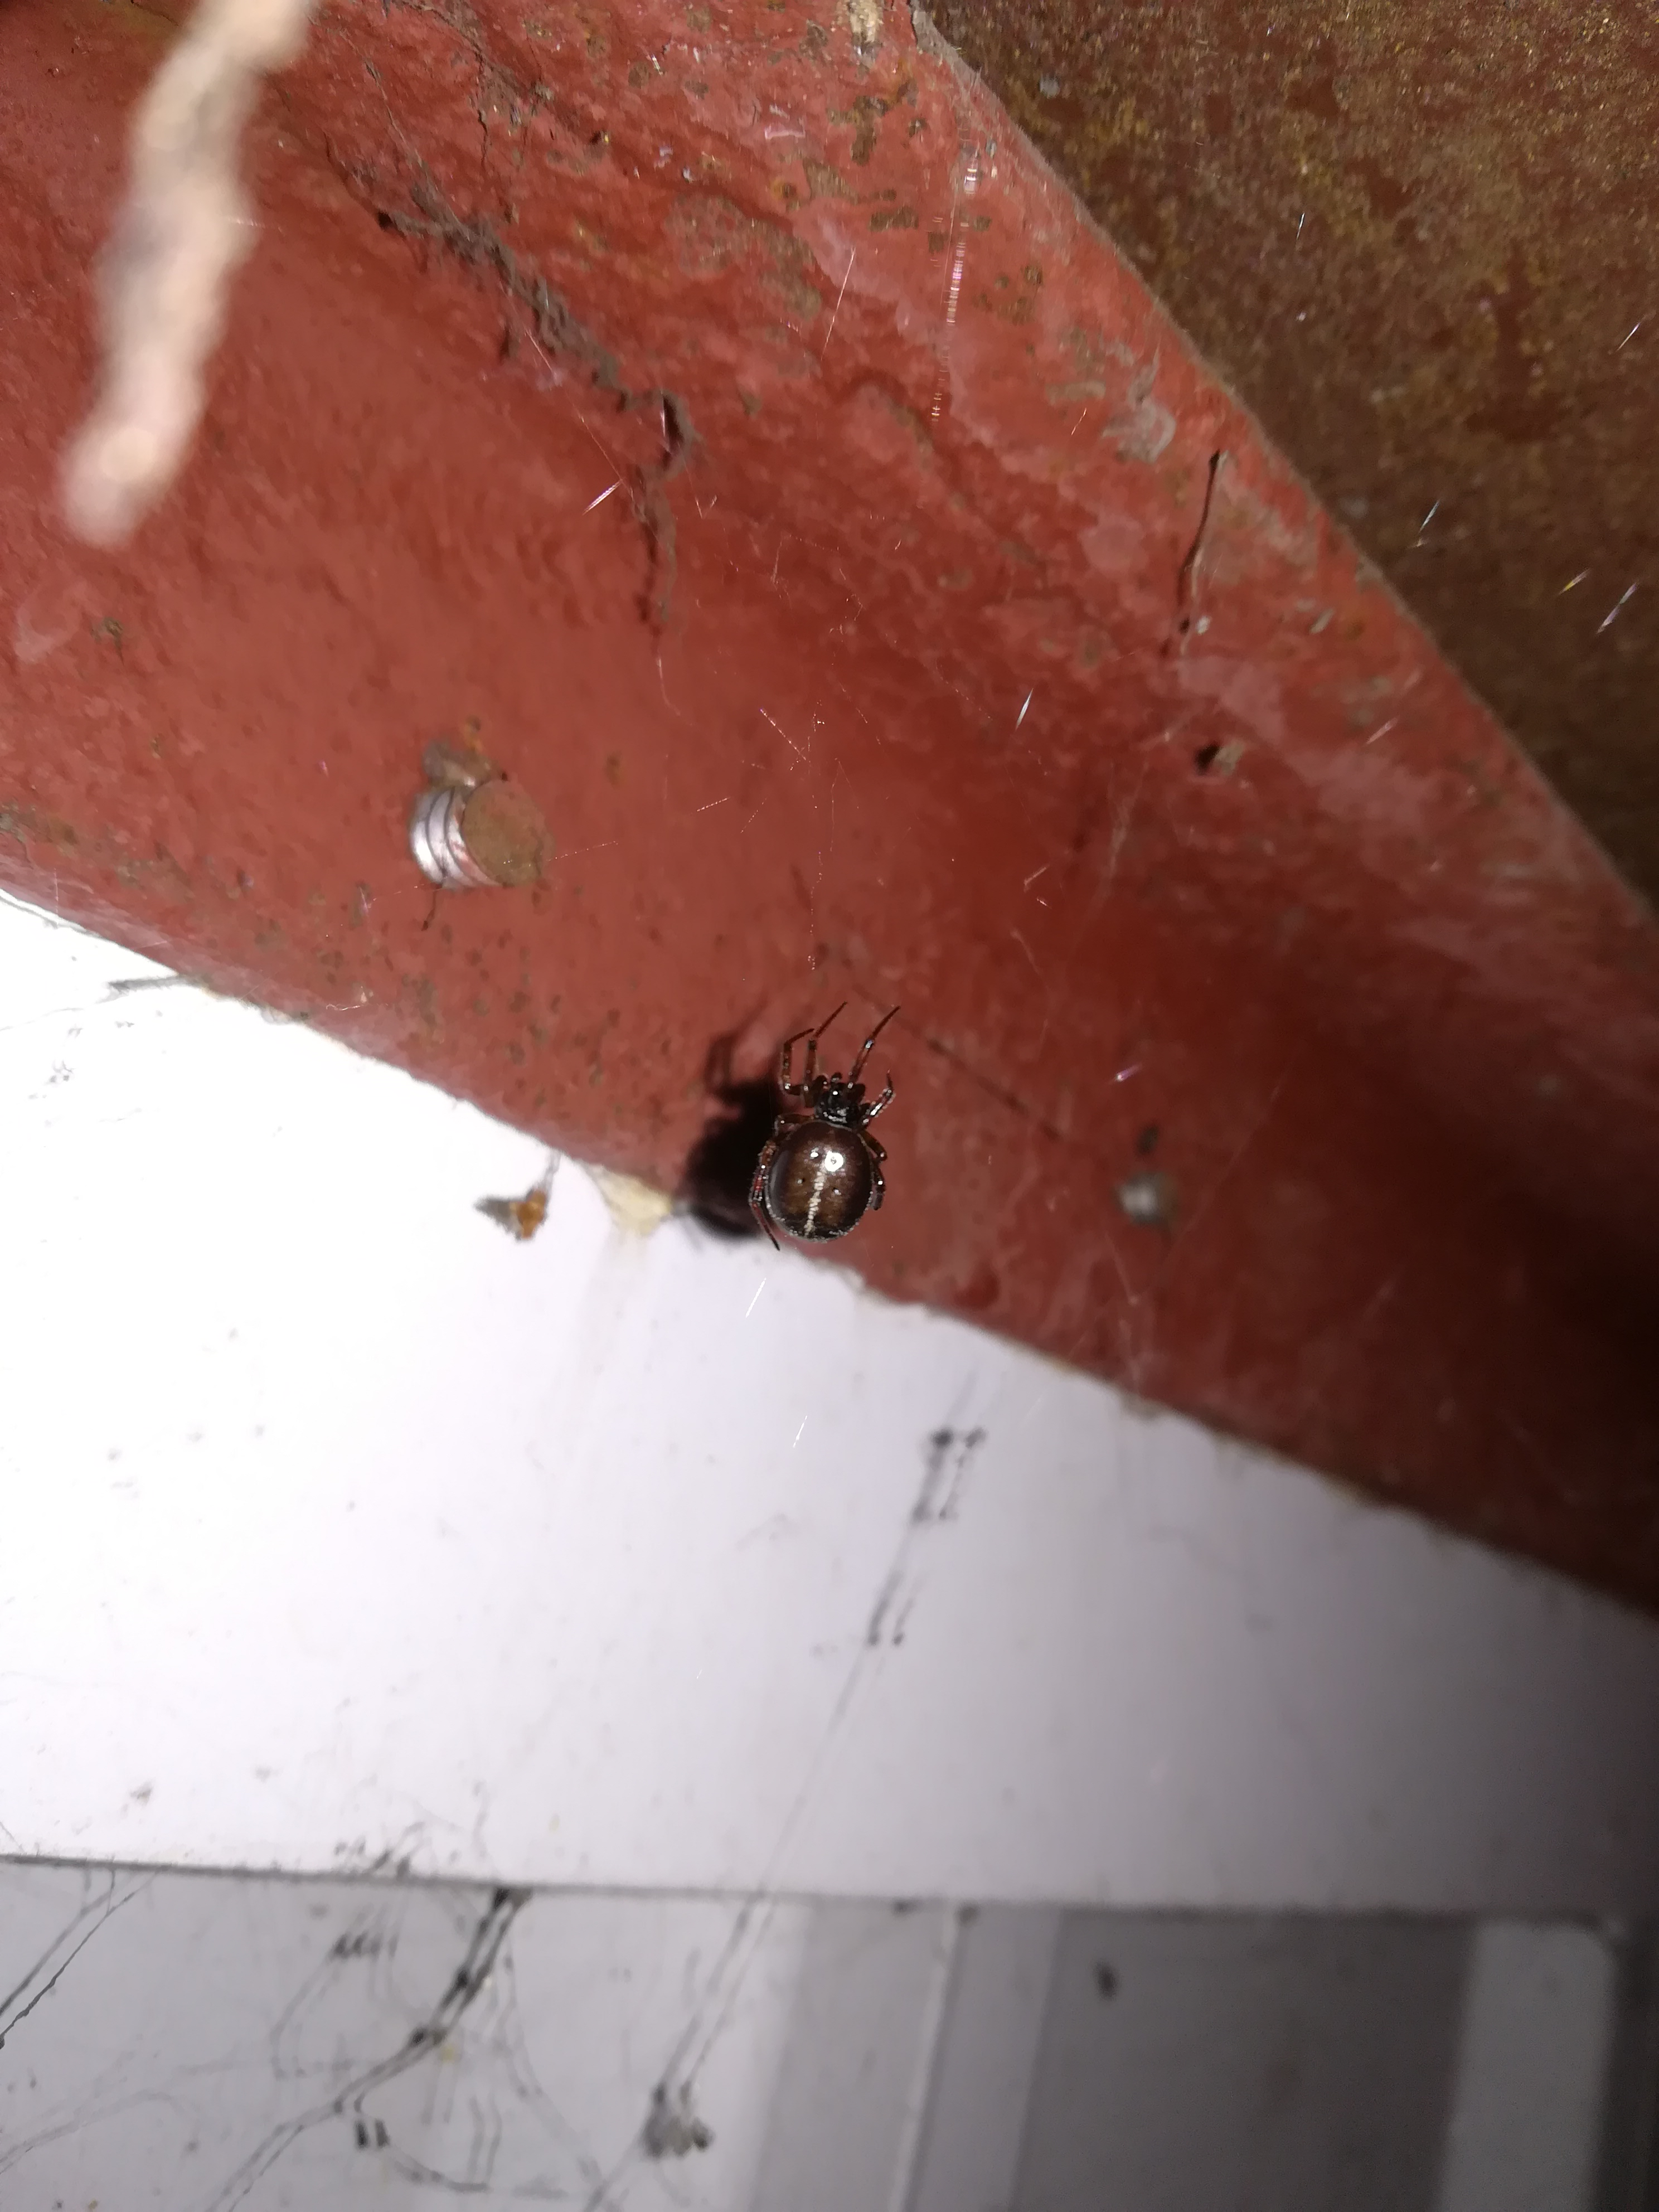spider: (702, 935, 951, 1277)
